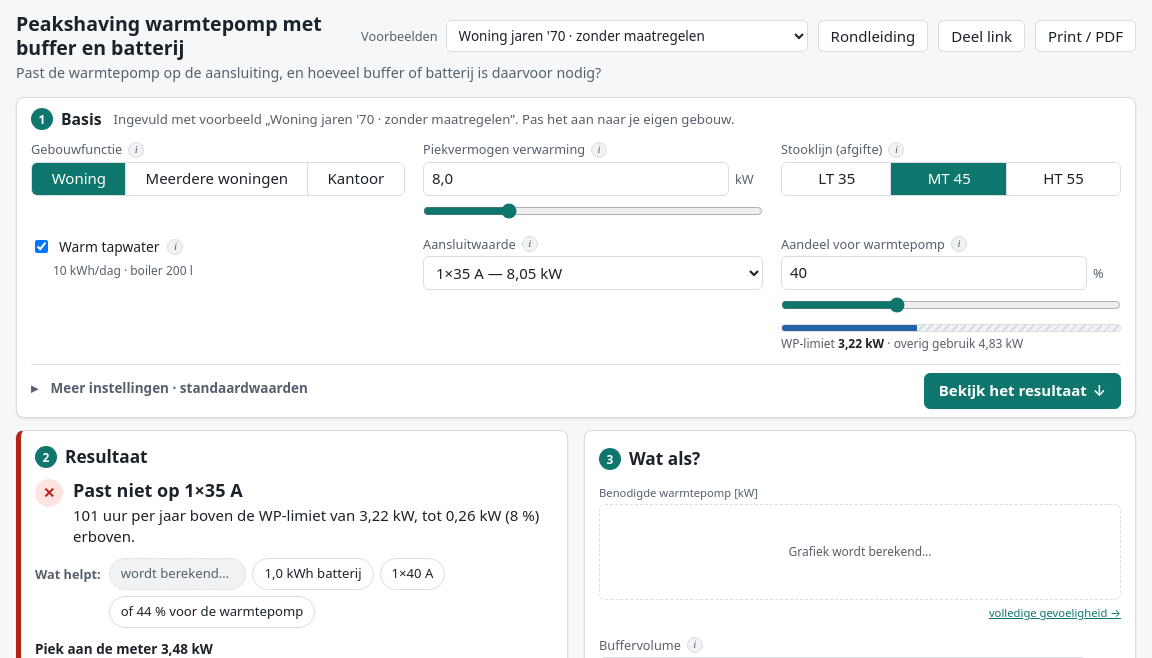
Test case: Rondleiding: ankers en invoer › ontbreekt het eerste anker, dan begint de rondleiding bij de volgende stap
Click the button "Rondleiding": {"x": 873, "y": 36} [818,20,928,52]
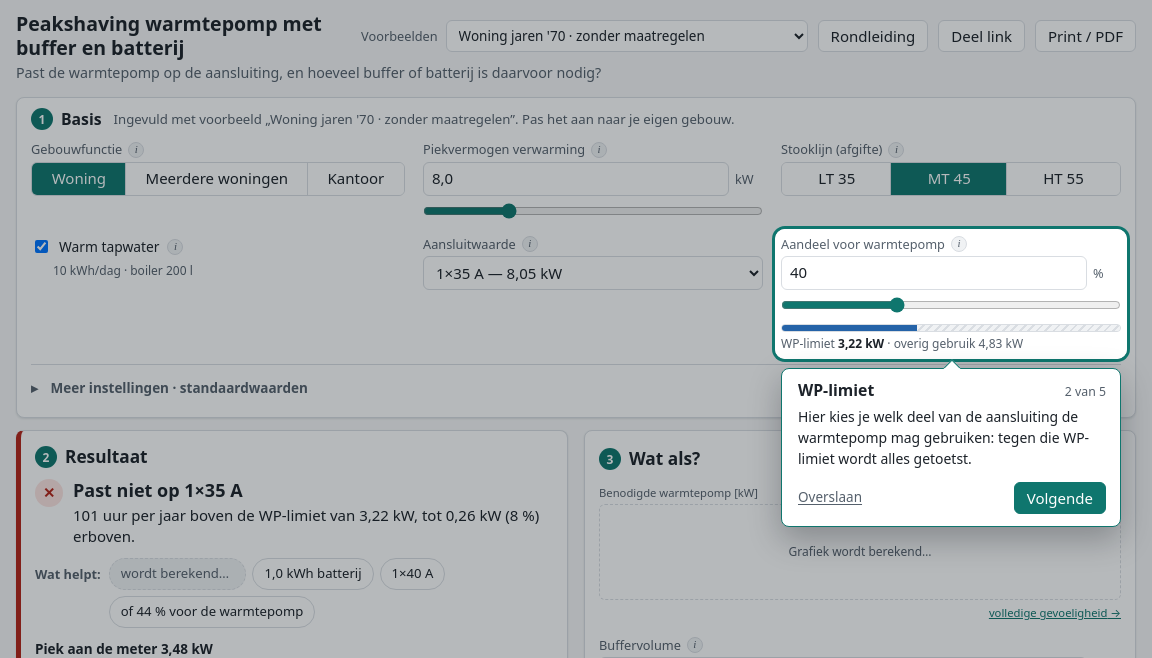
Expected: the heading "WP-limiet" is shown, [798,379,874,401]
